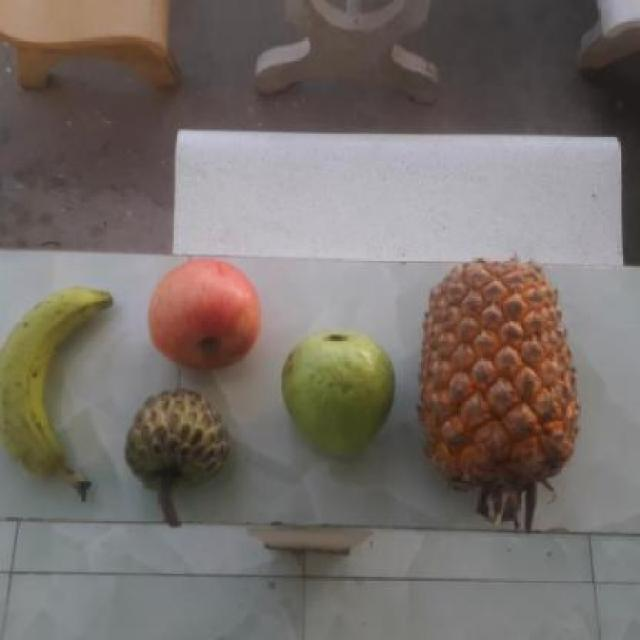apple: (146, 258, 265, 374)
banana: (0, 285, 122, 493)
guava: (284, 328, 401, 458)
pineapple: (420, 262, 582, 500)
sugar apple: (122, 390, 235, 498)
